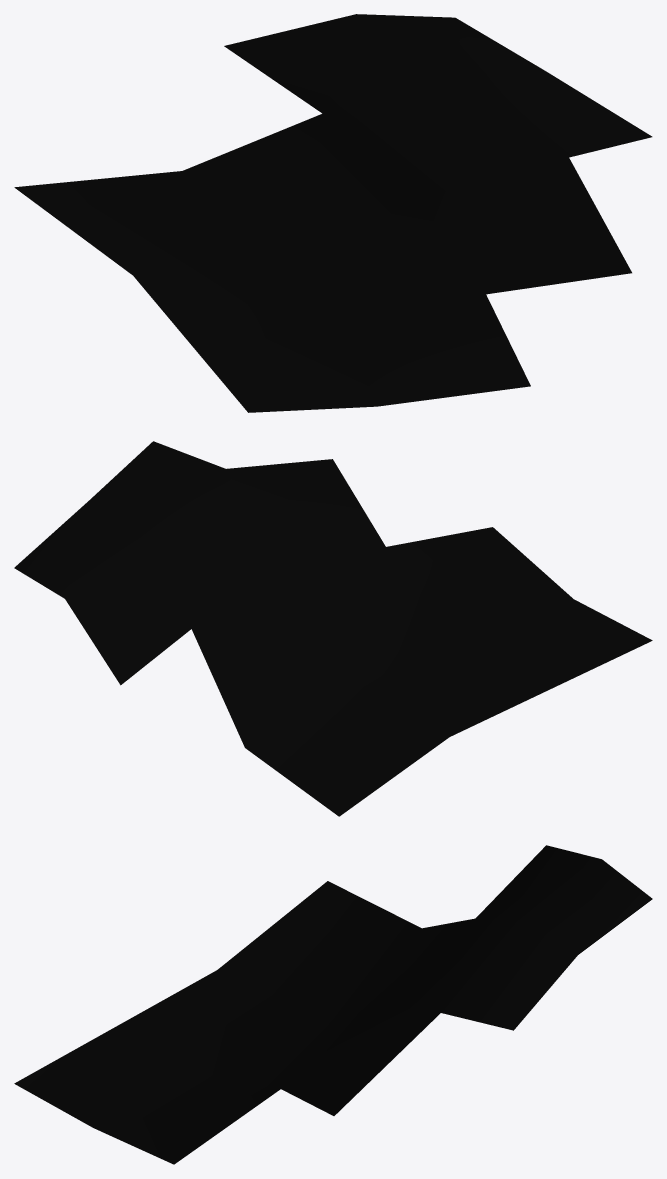
Rendered from HTOWN01_TREESHADOWS20.fbx.
The picture shows the model from 3 angles, top to bottom: view 1: azimuth 30°, elevation 25°; view 2: azimuth 150°, elevation 25°; view 3: azimuth 330°, elevation 25°; orthographic projection.
Parts seen in each view (by area): view 1: HTOWN01_TREESHADOWS20; view 2: HTOWN01_TREESHADOWS20; view 3: HTOWN01_TREESHADOWS20.
Part boxes in pixels (x1,y1,x2,y2): HTOWN01_TREESHADOWS20: [14, 14, 652, 412]; HTOWN01_TREESHADOWS20: [14, 441, 652, 816]; HTOWN01_TREESHADOWS20: [14, 845, 652, 1164].
Size of the model in its own units: 208609 by 60101 by 271466.
1 material, 1 textured.
